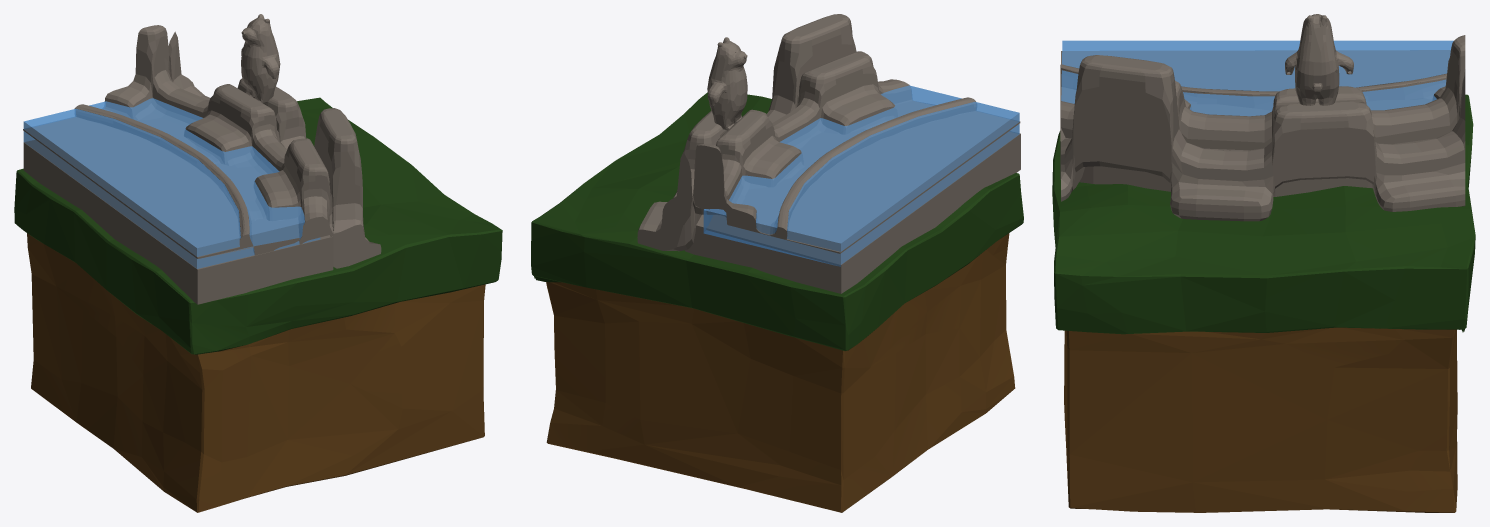
3 views of the same model, side by side, from view 1: azimuth 30°, elevation 25°; view 2: azimuth 150°, elevation 25°; view 3: azimuth 270°, elevation 25° (orthographic). The views are drawn at different scales.
Parts seen in each view (by area): view 1: R2; view 2: R2; view 3: R2.
Part boxes in pixels (x1,y1,x2,y2): R2: (14, 14, 502, 512); R2: (531, 14, 1023, 512); R2: (1052, 14, 1475, 512).
Bounding box in the file's own units: 1.07 × 1.24 × 1.09.
